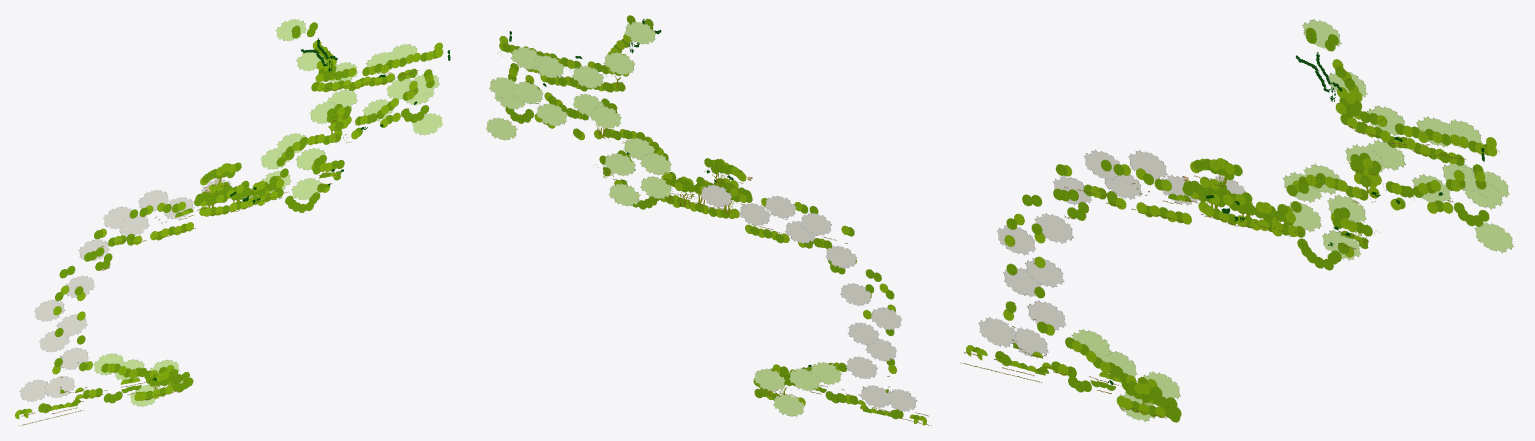
Rendered from jungle01_bg.glb.
The picture shows the model from 3 angles, left to right: view 1: azimuth 30°, elevation 25°; view 2: azimuth 150°, elevation 25°; view 3: azimuth 330°, elevation 25°; orthographic projection. The views are drawn at different scales.
Parts seen in each view (by area): view 1: jungle01_bg; view 2: jungle01_bg; view 3: jungle01_bg.
Part boxes in pixels (box(x1,y1,x2,y2)): jungle01_bg: box(15, 19, 450, 425); jungle01_bg: box(485, 15, 930, 425); jungle01_bg: box(961, 19, 1513, 422).
Bounding box in the file's own units: 4943 × 3811 × 297.
Materials: 13 (13 with a texture image).
